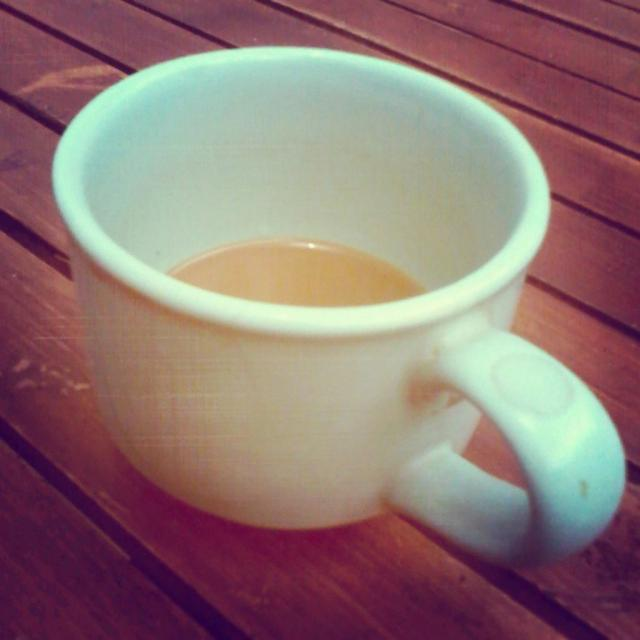Coffee: (155, 238, 429, 316)
Tea: (167, 234, 428, 304)
